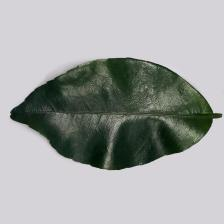healthy: (20, 64, 205, 166)
